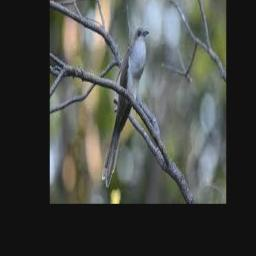Cuckoo: (102, 26, 150, 186)
